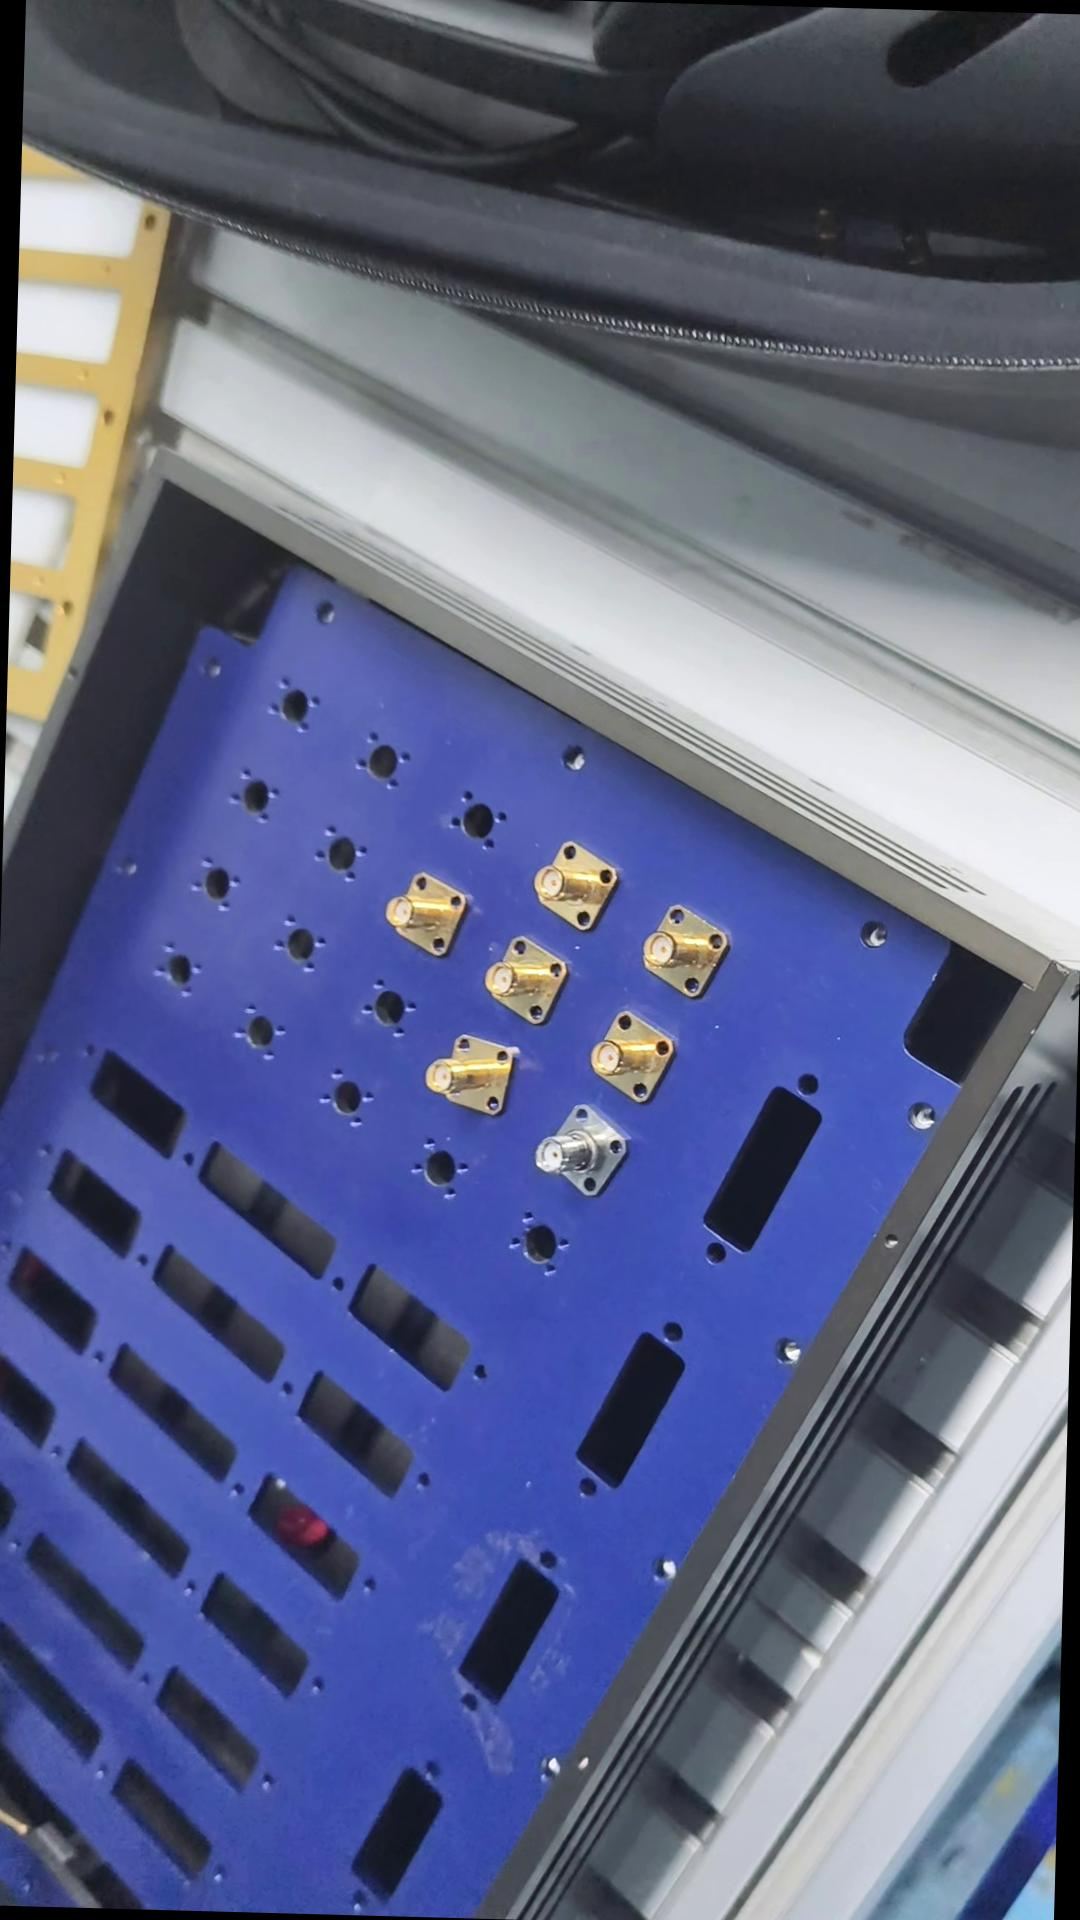SMA: (530, 1095, 636, 1200), (638, 894, 738, 1000), (578, 1004, 679, 1102), (475, 934, 571, 1029), (380, 869, 469, 963), (525, 837, 616, 928), (429, 1035, 516, 1116)
